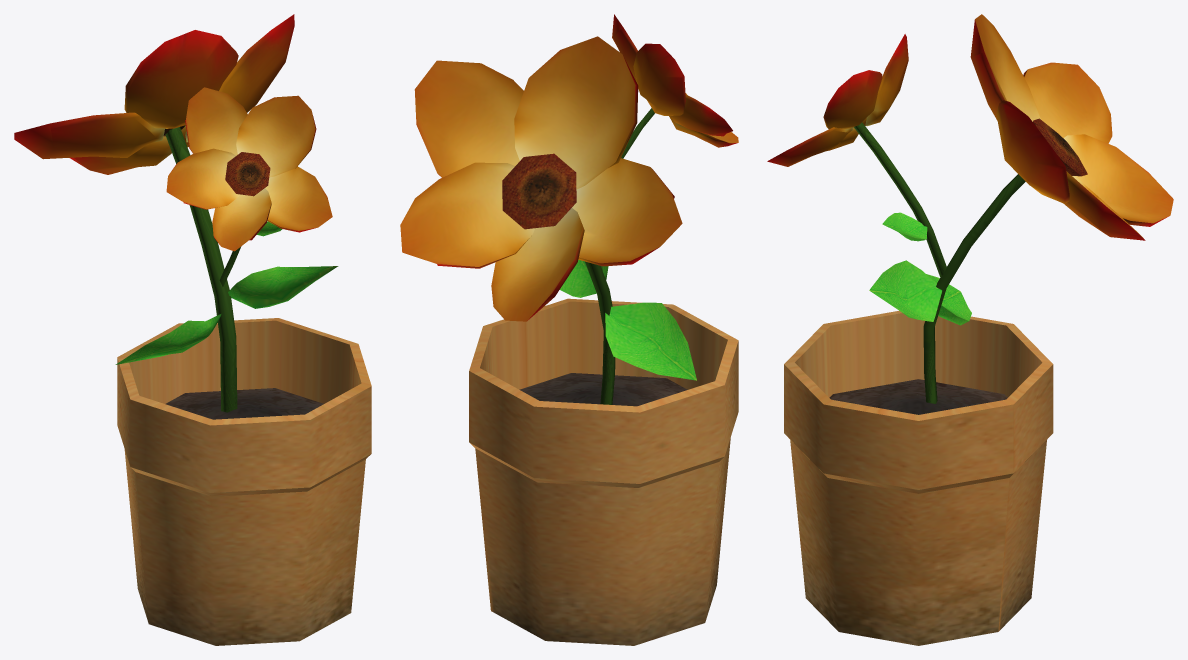
File: obj_flowerpot.fbx
3 renders of one model, left to right at view 1: azimuth 30°, elevation 25°; view 2: azimuth 150°, elevation 25°; view 3: azimuth 270°, elevation 25°, orthographic. The views are drawn at different scales.
Parts seen in each view (by area): view 1: polySurface39; view 2: polySurface39; view 3: polySurface39.
Part boxes in pixels (x1=…): polySurface39: x1=14, y1=14, x2=371, y2=645; polySurface39: x1=400, y1=14, x2=738, y2=645; polySurface39: x1=767, y1=14, x2=1173, y2=645.
Size of the model in its own units: 0.4689 by 0.9346 by 0.6061.
Materials: 3 (3 with a texture image).
